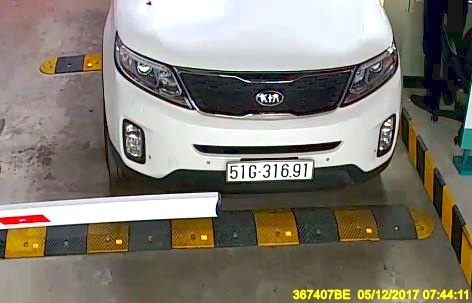plate: (226, 155, 319, 184)
